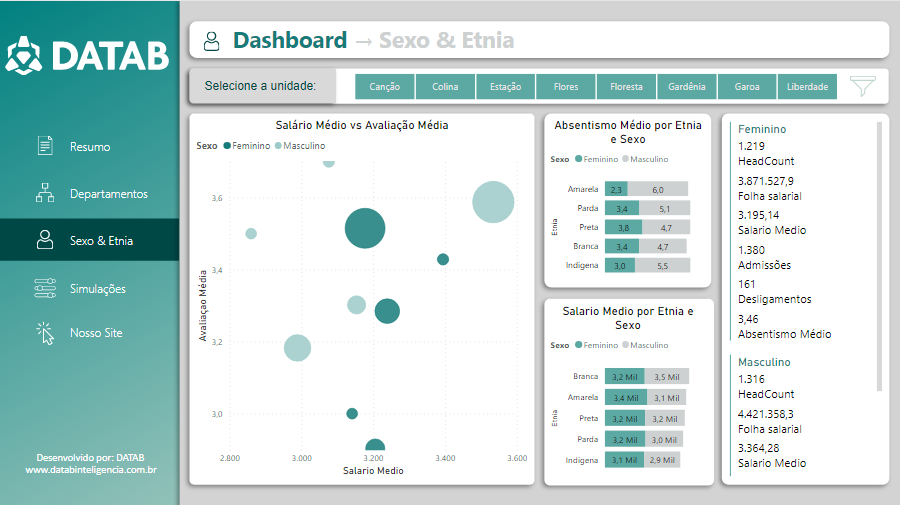

This screenshot's page, from the dashboard's own definition file:
{"tool":"powerbi","page":{"name":"Sexo&Etinia","canvas":[1280,720],"ordinal":2},"visuals":[{"type":"actionButton","box":[0,176.1,252.8,56.8],"z":0},{"type":"actionButton","box":[0,241.8,252.8,56.8],"z":1000},{"type":"actionButton","box":[0,307.5,252.8,56.8],"z":2000},{"type":"actionButton","box":[0,373.1,252.8,56.8],"z":3000},{"type":"actionButton","box":[0,438.8,252.8,56.8],"z":4000},{"type":"textbox","box":[326.6,27,933,55.4],"z":5000},{"type":"slicer","fields":{"Values":["RH.Unidade"]},"box":[480,96.6,734.2,49.7],"z":5001},{"type":"scatterChart","title":"Salário Médio vs Avaliação Média","fields":{"Category":["RH.Etnia"],"Series":["RH.Sexo"],"X":["Medidas.Salario Medio"],"Y":["Medidas.Avaliaçao Média"],"Size":["Medidas.HeadCount"]},"box":[275.5,166.2,480,514.1],"z":5002},{"type":"multiRowCard","fields":{"Values":["RH.Sexo","Medidas.HeadCount","Medidas.Folha salarial","Medidas.Salario Medio","Medidas.Admissões","Medidas.Desligamentos","Medidas.Absentismo Médio"]},"box":[1032.4,166.2,227.2,514.1],"z":5003},{"type":"barChart","fields":{"Y":["Medidas.Absentismo Médio"],"Series":["RH.Sexo"],"Category":["RH.Etnia"]},"box":[778.2,166.2,230.1,235.7],"z":5004},{"type":"barChart","fields":{"Y":["Medidas.Salario Medio"],"Category":["RH.Etnia"],"Series":["RH.Sexo"]},"box":[778.2,430.3,230.1,249.9],"z":5005}]}

Visuals, with their boxes on the page's 1280x720 design canvas (x1, y1, x2, y2). These are canvas units, not pixel positions in the 900x505 screenshot, which may show the page scaled, cropped or inside an application window:
actionButton: {"left": 0, "top": 176, "right": 253, "bottom": 233}
actionButton: {"left": 0, "top": 242, "right": 253, "bottom": 299}
actionButton: {"left": 0, "top": 308, "right": 253, "bottom": 364}
actionButton: {"left": 0, "top": 373, "right": 253, "bottom": 430}
actionButton: {"left": 0, "top": 439, "right": 253, "bottom": 496}
textbox: {"left": 327, "top": 27, "right": 1260, "bottom": 82}
slicer - RH.Unidade: {"left": 480, "top": 97, "right": 1214, "bottom": 146}
"Salário Médio vs Avaliação Média" scatterChart: {"left": 276, "top": 166, "right": 756, "bottom": 680}
multiRowCard - RH.Sexo x Medidas.HeadCount: {"left": 1032, "top": 166, "right": 1260, "bottom": 680}
barChart - Medidas.Absentismo Médio x RH.Sexo: {"left": 778, "top": 166, "right": 1008, "bottom": 402}
barChart - Medidas.Salario Medio x RH.Etnia: {"left": 778, "top": 430, "right": 1008, "bottom": 680}
